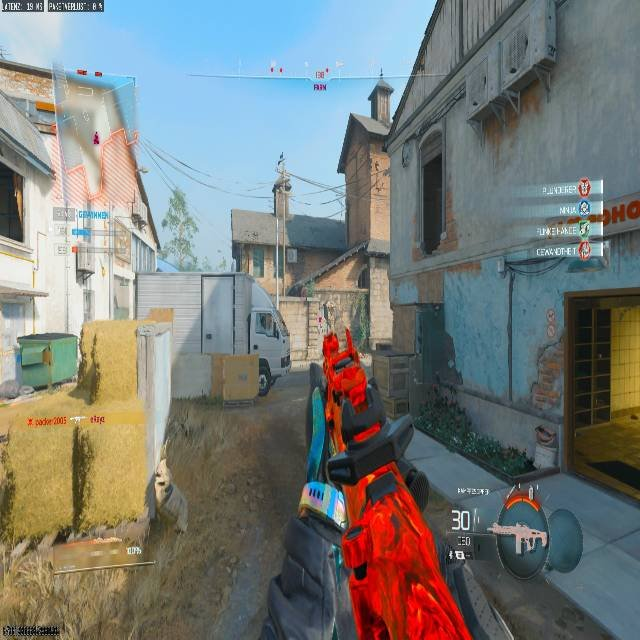player: (255, 358, 273, 398), (281, 353, 290, 375)
